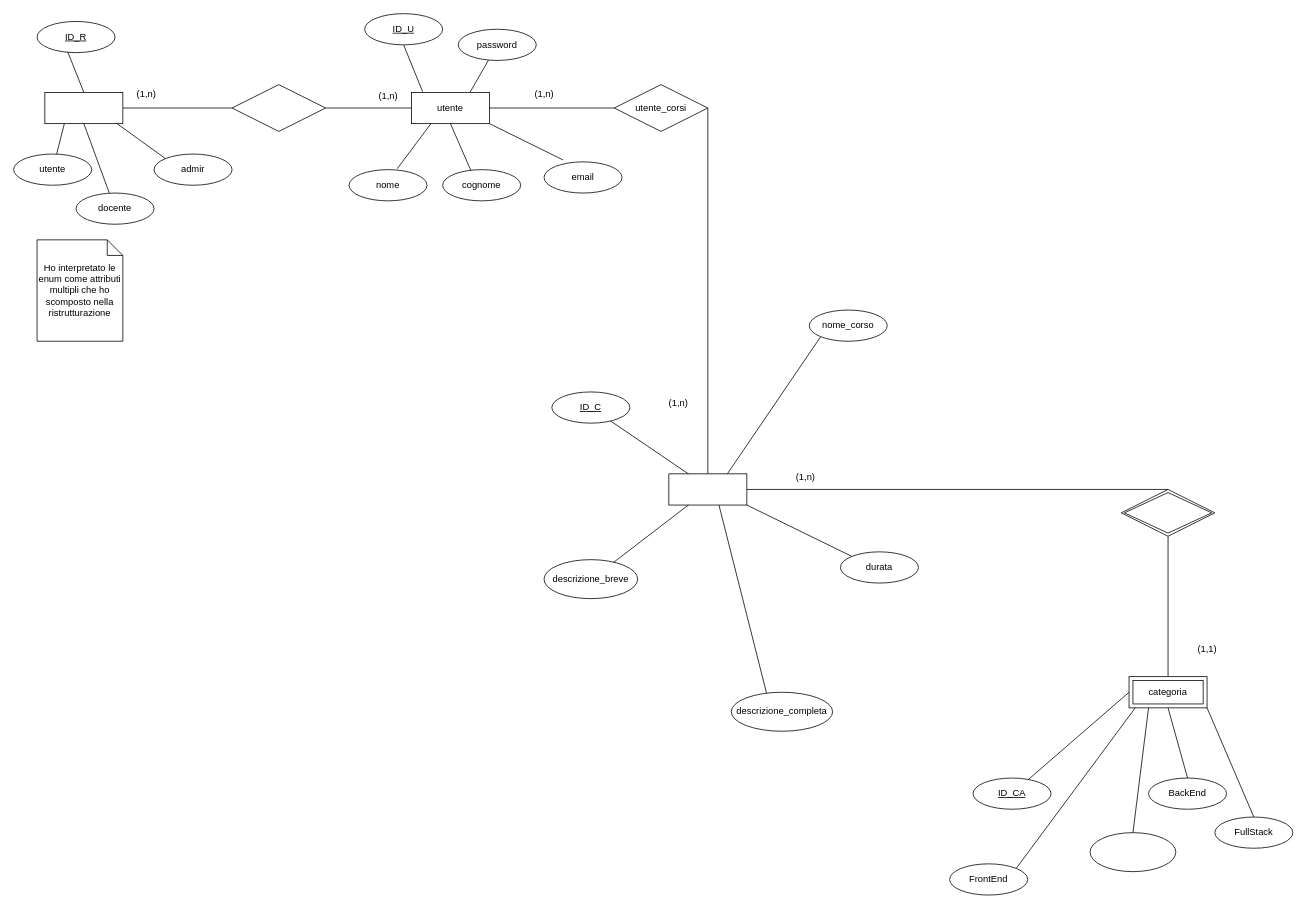
Some shapes in this 1307 by 909 pixel diagram are drawn without their labels. The centre of each missing label's shape, as x and y in pixels:
"corso" goes at point (707, 489).
"Cybersecurity" goes at point (1132, 852).
"possiede" goes at point (1167, 512).
"Ruolo" goes at point (83, 108).
"utente_ruolo" goes at point (278, 107).
